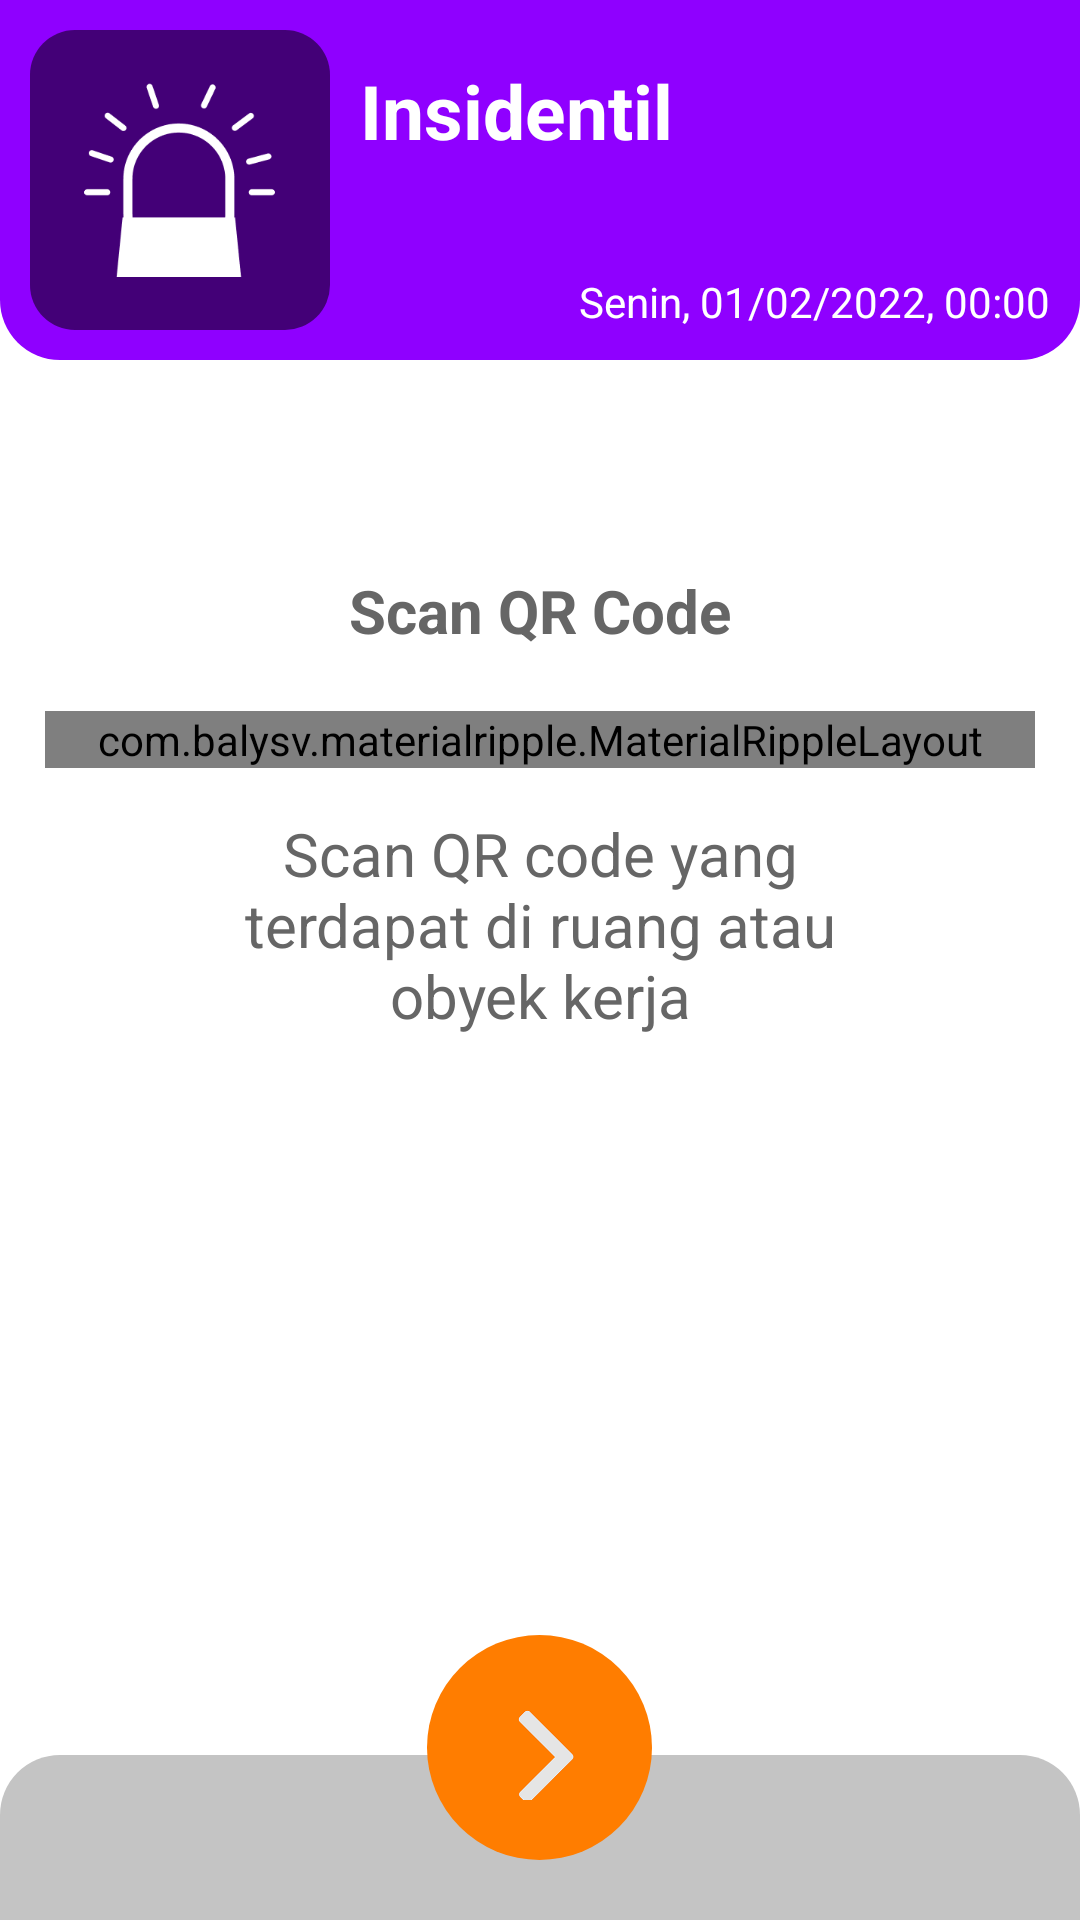

Where icons sit on this 1080px×1920px app screen, as (x1, y1, x2, y2):
insedentil: (84, 83, 275, 277)
